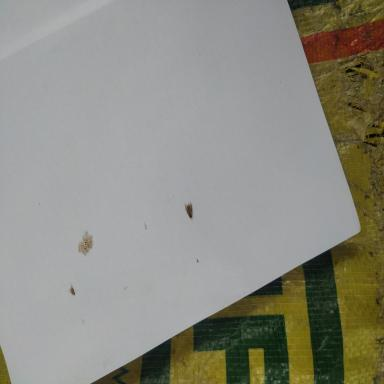pbw: (184, 202, 194, 218)
